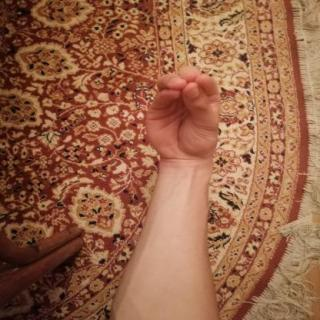HA: (127, 58, 243, 167)
